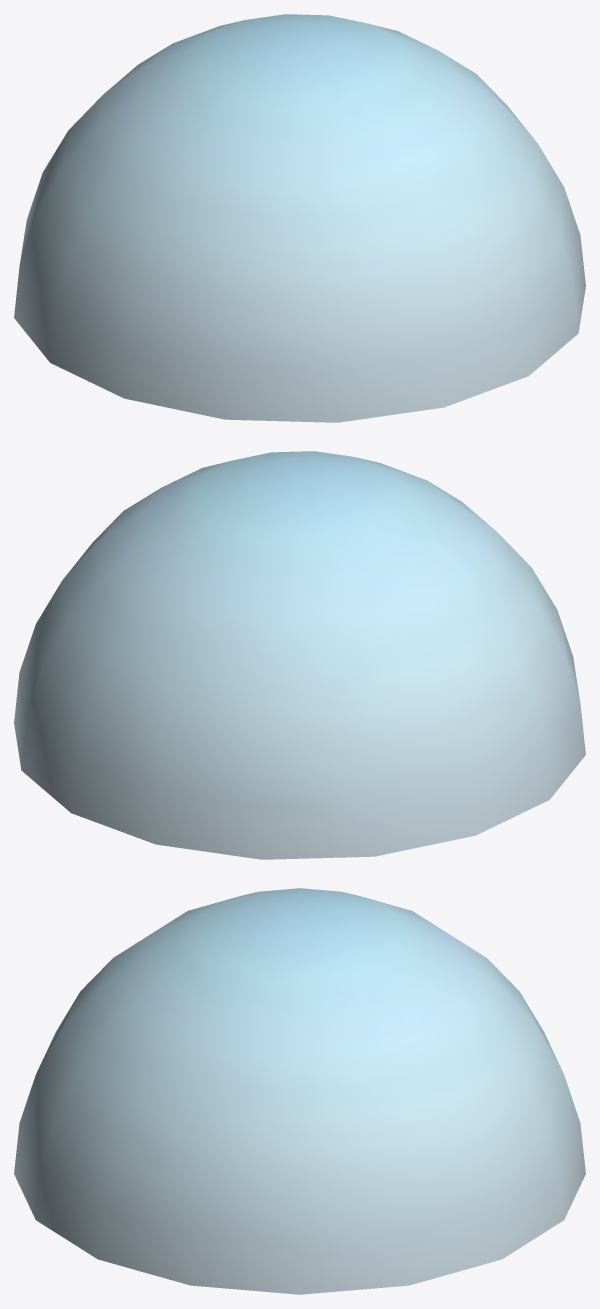
File: PlayGround.fbx
3 renders of one model, top to bottom at view 1: azimuth 30°, elevation 25°; view 2: azimuth 150°, elevation 25°; view 3: azimuth 270°, elevation 25°, orthographic.
Visible parts, largest first — view 1: Sphere; view 2: Sphere; view 3: Sphere.
Boxes of the visible parts, x1,y1,x2,y2 form: Sphere: (14, 14, 585, 422); Sphere: (14, 451, 585, 859); Sphere: (14, 888, 585, 1294).
Size of what is drawn, in the model's own units: 20000 by 10000 by 20000.
